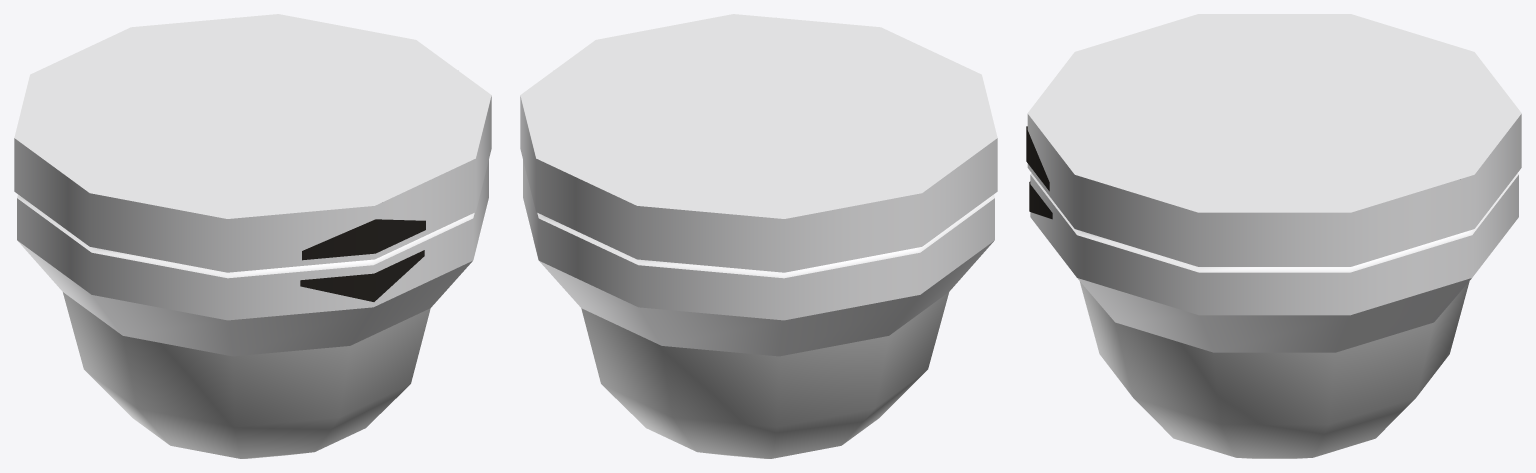
The model's file is SecurityCamera.fbx.
3 renders of one model, left to right at view 1: azimuth 30°, elevation 25°; view 2: azimuth 150°, elevation 25°; view 3: azimuth 270°, elevation 25°, orthographic.
Visible parts, largest first — view 1: SecurityCamera; view 2: SecurityCamera; view 3: SecurityCamera.
Part boxes in pixels (x1=…): SecurityCamera: x1=14, y1=14, x2=491, y2=458; SecurityCamera: x1=520, y1=14, x2=997, y2=458; SecurityCamera: x1=1026, y1=14, x2=1521, y2=458.
Bounding box in the file's own units: 22.58 × 16.93 × 23.8.
